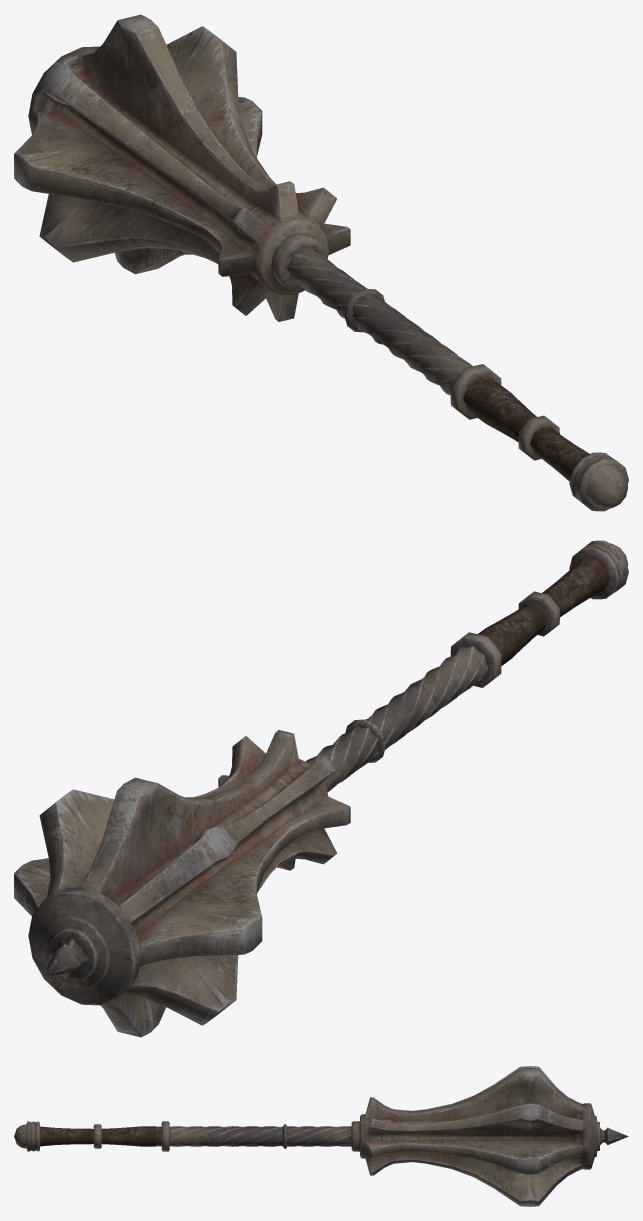
File: greatmace.fbx
3 views of the same model, one above another, from view 1: azimuth 30°, elevation 25°; view 2: azimuth 150°, elevation 25°; view 3: azimuth 270°, elevation 25° (orthographic). The views are drawn at different scales.
Visible parts, largest first — view 1: WP_A_0852; view 2: WP_A_0852; view 3: WP_A_0852.
Boxes of the visible parts, x1,y1,x2,y2 form: WP_A_0852: (14,14,628,511); WP_A_0852: (14,540,628,1037); WP_A_0852: (14,1066,628,1206).
Size of the model in its own units: 36.04 by 36.04 by 154.
1 material, 1 textured.
